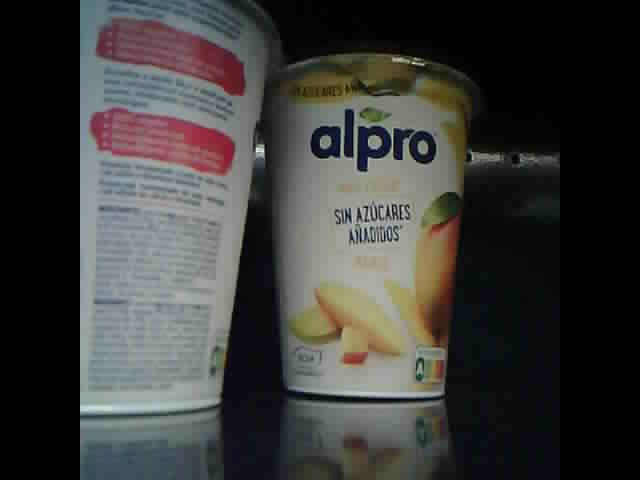alpro: (82, 1, 279, 416), (262, 51, 477, 401)
